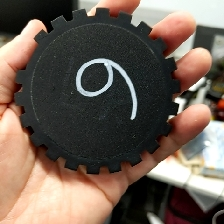gear: (13, 6, 182, 175)
missing: (14, 27, 49, 87)
